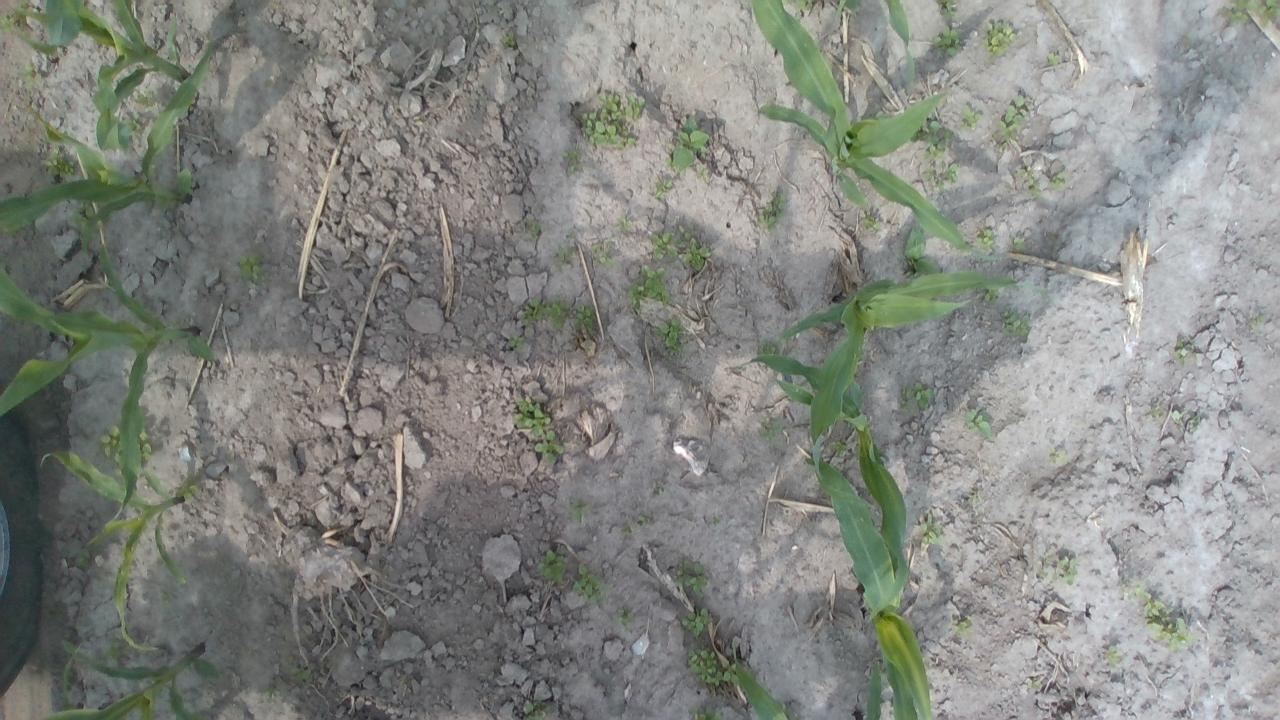Maize: (778, 269, 1050, 514), (750, 0, 1006, 260), (0, 244, 218, 526), (0, 26, 251, 248), (734, 354, 910, 624), (806, 457, 936, 720), (40, 452, 191, 652), (6, 0, 198, 152), (40, 638, 224, 720), (732, 637, 792, 720), (877, 0, 919, 98), (854, 657, 882, 720), (835, 0, 863, 17)
Weeds: (1136, 588, 1194, 652), (580, 94, 646, 150), (514, 396, 562, 464), (99, 424, 152, 467), (671, 116, 710, 172), (626, 264, 672, 309), (688, 649, 742, 685), (904, 228, 940, 278), (910, 121, 954, 159), (1221, 0, 1280, 28), (573, 563, 611, 604), (522, 298, 570, 328), (998, 94, 1028, 140), (982, 21, 1018, 58), (671, 561, 710, 595), (650, 318, 686, 352), (40, 146, 76, 179), (681, 232, 710, 271), (0, 0, 34, 32), (758, 194, 788, 229), (900, 382, 935, 412), (536, 550, 568, 582), (681, 607, 715, 637), (922, 164, 959, 188), (964, 410, 993, 440), (73, 204, 104, 232), (934, 26, 962, 56), (15, 60, 42, 91), (649, 231, 678, 259), (1018, 166, 1043, 197), (920, 514, 944, 546), (1170, 408, 1200, 433), (1001, 312, 1029, 337), (1056, 556, 1080, 584), (238, 254, 262, 280), (175, 478, 198, 502), (962, 105, 984, 128), (555, 244, 575, 269), (1174, 340, 1196, 362), (952, 614, 974, 636), (760, 418, 781, 441), (570, 503, 593, 524), (574, 304, 594, 328), (688, 706, 722, 720), (563, 150, 582, 174), (136, 88, 158, 108), (592, 244, 614, 264), (1046, 170, 1068, 190), (524, 700, 546, 720), (104, 640, 125, 660), (654, 178, 674, 199), (256, 682, 282, 698), (1048, 445, 1068, 465), (976, 229, 996, 248), (74, 549, 92, 569), (614, 609, 635, 626), (937, 0, 957, 17), (1105, 646, 1122, 666), (1144, 406, 1165, 422), (828, 440, 850, 455), (121, 118, 142, 133), (861, 216, 880, 232), (528, 220, 542, 241), (986, 286, 1004, 302), (758, 342, 776, 358), (292, 667, 312, 681), (1011, 236, 1026, 253), (794, 0, 814, 12), (616, 218, 633, 232), (637, 515, 655, 528), (508, 335, 524, 348), (965, 490, 981, 503), (1046, 52, 1060, 66), (501, 33, 514, 47), (652, 484, 666, 497), (1256, 313, 1268, 328), (620, 522, 635, 534), (1028, 677, 1042, 689), (698, 168, 708, 180), (1183, 34, 1193, 46), (666, 156, 674, 167)
